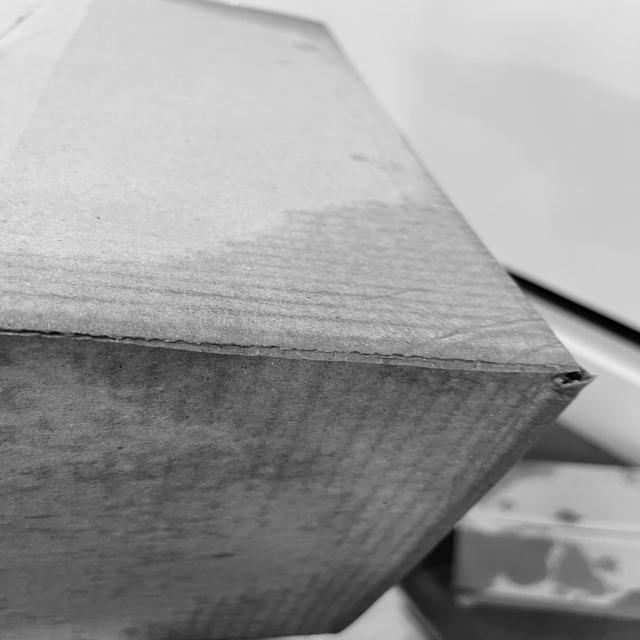wet: (15, 209, 592, 529)
